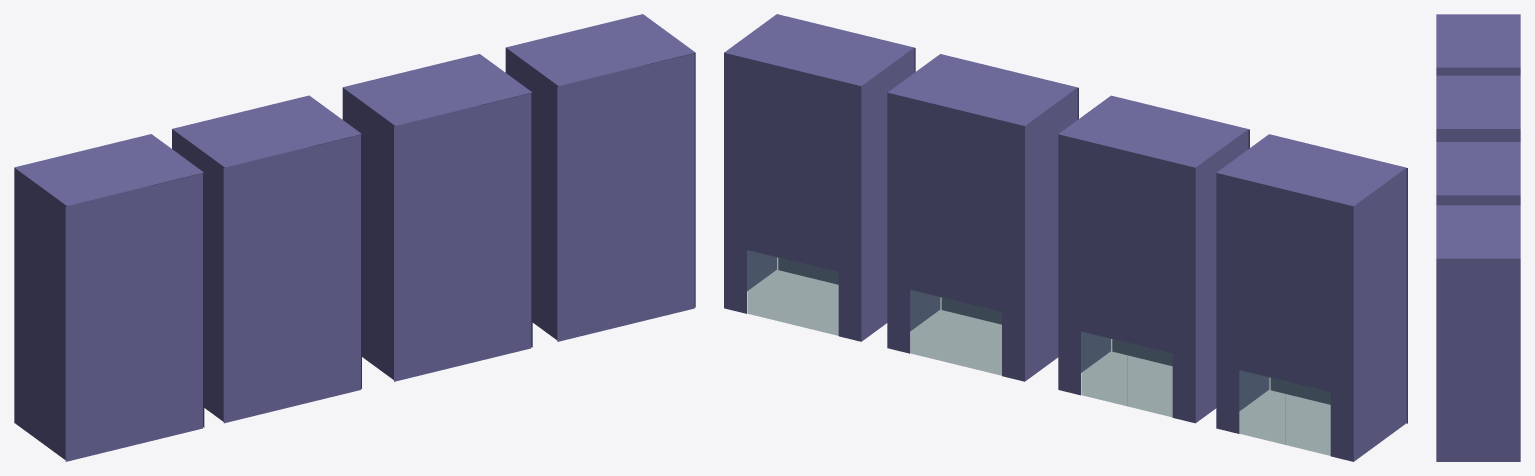
Rendered from gwdung ungu jejer.fbx.
3 views of the same model, side by side, from view 1: azimuth 30°, elevation 25°; view 2: azimuth 150°, elevation 25°; view 3: azimuth 270°, elevation 25° (orthographic). The views are drawn at different scales.
Visible parts, largest first — view 1: pPlane17 (×4), pCube5 (×4); view 2: pCube5 (×4), pPlane16 (×4), pPlane15 (×4), pPlane17 (×4); view 3: pCube5 (×4).
Part boxes in pixels (x1,y1,x2,y2): pPlane17 (×4): [65, 53, 694, 461]; pCube5 (×4): [14, 14, 695, 459]; pCube5 (×4): [724, 14, 1406, 461]; pPlane16 (×4): [747, 250, 1285, 444]; pPlane15 (×4): [793, 261, 1330, 455]; pPlane17 (×4): [778, 47, 1407, 423]; pCube5 (×4): [1436, 14, 1520, 461].
Size of the model in its own units: 31.94 by 12.38 by 4.65.
